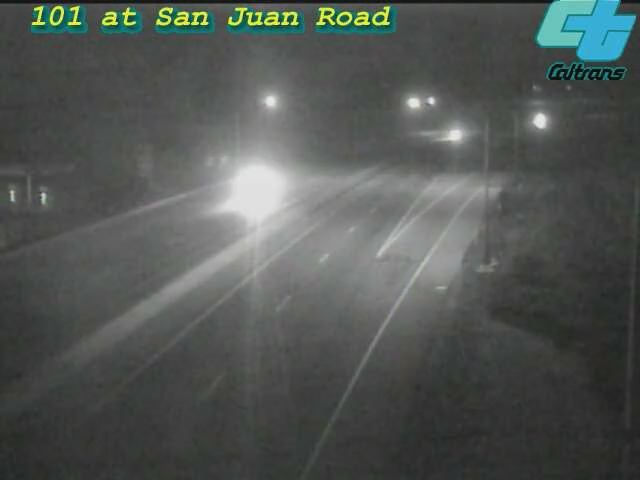vehicle: (217, 148, 297, 228), (427, 111, 477, 161), (515, 95, 565, 145)
